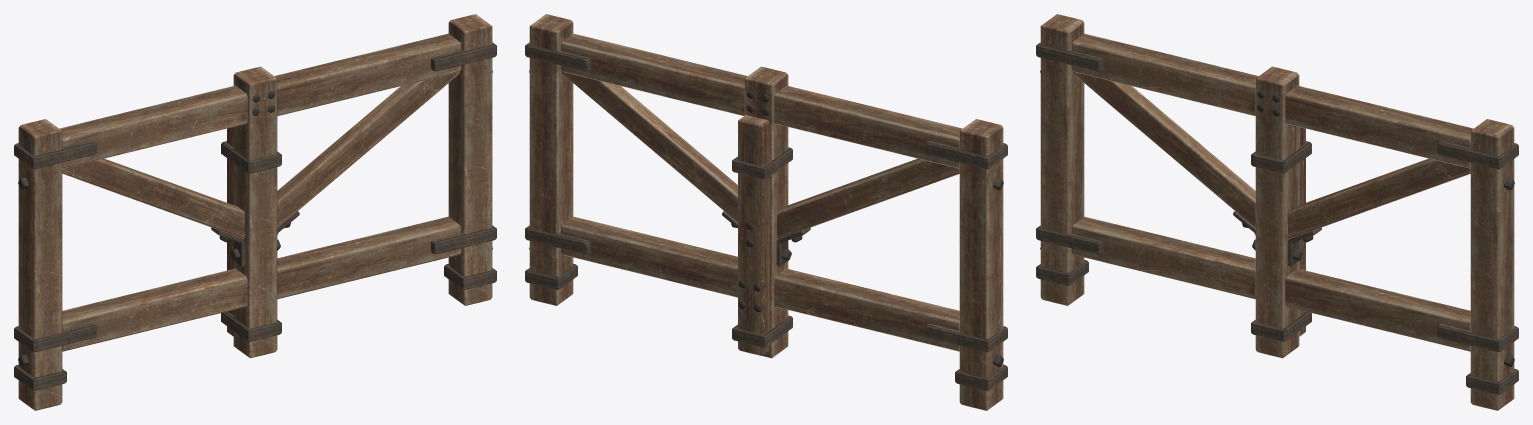
3 views of the same model, side by side, from view 1: azimuth 30°, elevation 25°; view 2: azimuth 150°, elevation 25°; view 3: azimuth 330°, elevation 25° (orthographic).
Parts seen in each view (by area): view 1: SM_DR_Wood_Frame_8x4_01_LOD0; view 2: SM_DR_Wood_Frame_8x4_01_LOD0; view 3: SM_DR_Wood_Frame_8x4_01_LOD0.
Boxes of the visible parts, box(x1,y1,x2,y2) form: SM_DR_Wood_Frame_8x4_01_LOD0: box(14, 14, 496, 410); SM_DR_Wood_Frame_8x4_01_LOD0: box(525, 14, 1007, 410); SM_DR_Wood_Frame_8x4_01_LOD0: box(1036, 14, 1518, 410).
Size of the model in its own units: 8.09 by 4.53 by 0.8456.
Materials: 2 (2 with a texture image).
